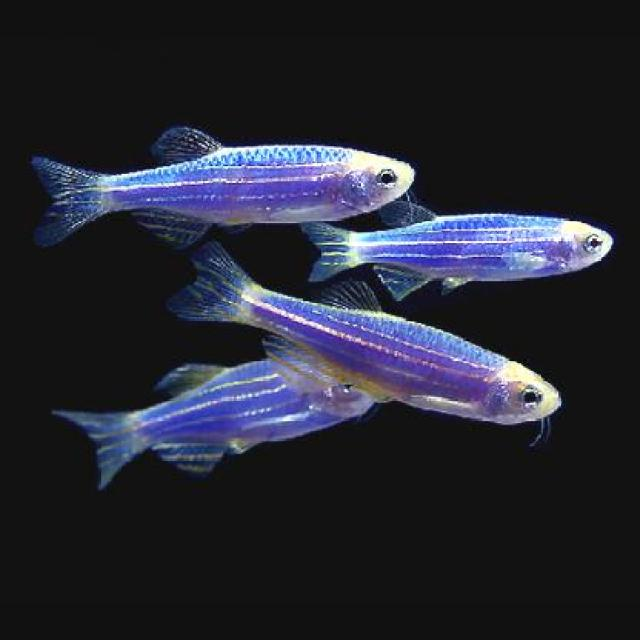ZebraFish: (172, 243, 560, 425), (36, 124, 410, 245), (303, 209, 611, 289)
